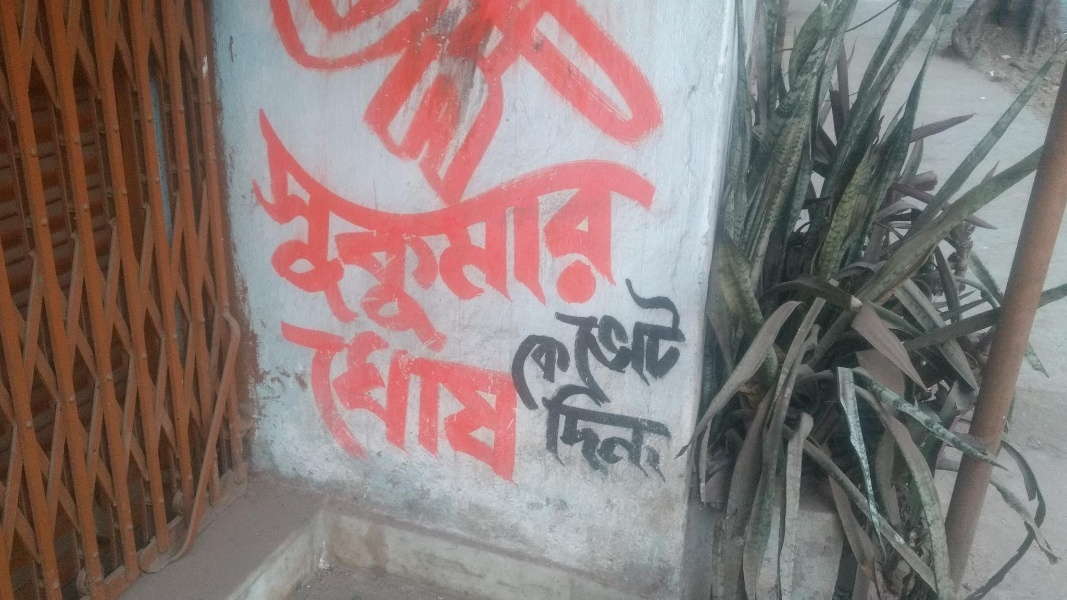text: (257, 109, 272, 356), (273, 109, 288, 356), (289, 109, 304, 356), (305, 109, 320, 356), (321, 109, 336, 356), (337, 109, 352, 356), (353, 109, 368, 356), (369, 109, 384, 356), (385, 109, 400, 356), (401, 109, 416, 356), (417, 109, 432, 356), (433, 109, 448, 356), (449, 109, 464, 356), (465, 109, 480, 356), (481, 109, 496, 356), (497, 109, 512, 356), (513, 109, 528, 356), (529, 109, 544, 356), (545, 109, 560, 356), (561, 109, 576, 356), (577, 109, 592, 356), (593, 109, 608, 356), (609, 109, 624, 356), (625, 109, 640, 356), (641, 109, 656, 356), (289, 301, 304, 501), (305, 301, 320, 501), (321, 301, 336, 501), (337, 301, 352, 501), (353, 301, 368, 501), (369, 301, 384, 501), (385, 301, 400, 501), (401, 301, 416, 501), (417, 301, 432, 501), (433, 301, 448, 501), (449, 301, 464, 501), (465, 301, 480, 501), (481, 301, 496, 501), (497, 301, 512, 501), (561, 270, 576, 419), (577, 270, 592, 419), (593, 270, 608, 419), (609, 270, 624, 419), (625, 270, 640, 419), (641, 270, 656, 419), (657, 270, 672, 419), (673, 270, 688, 419), (279, 301, 288, 501), (545, 377, 560, 486), (561, 377, 576, 486), (577, 377, 592, 486), (593, 377, 608, 486), (609, 377, 624, 486), (625, 377, 640, 486), (641, 377, 656, 486), (657, 377, 672, 486), (513, 301, 521, 501), (250, 109, 256, 356), (551, 270, 560, 419), (529, 332, 544, 417), (545, 332, 560, 417), (561, 332, 575, 417), (535, 377, 544, 486), (517, 332, 528, 417), (657, 109, 658, 356), (673, 377, 675, 486), (689, 270, 690, 419)
